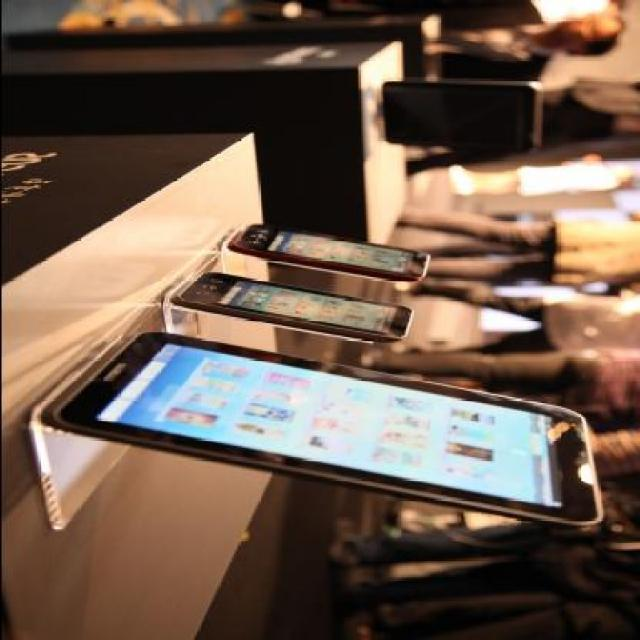phone: (33, 318, 602, 530), (170, 271, 414, 342), (226, 223, 429, 281)
